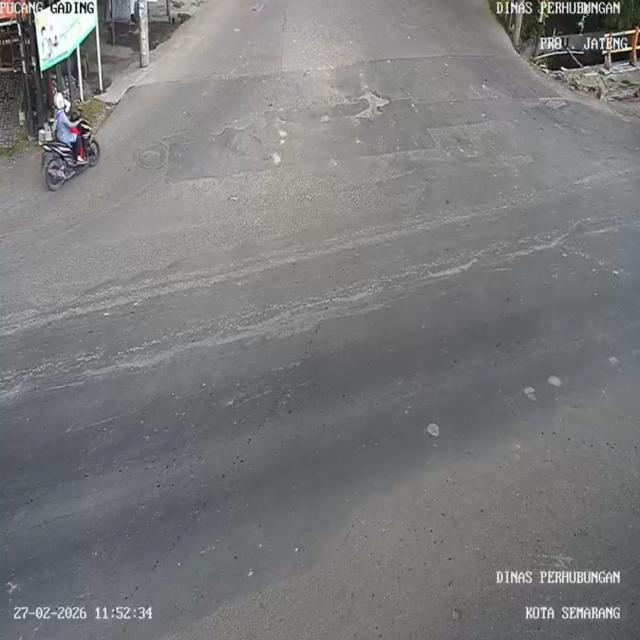motorcycle: (36, 133, 104, 184)
person: (45, 94, 82, 148)
rider_region: (35, 88, 98, 194)
